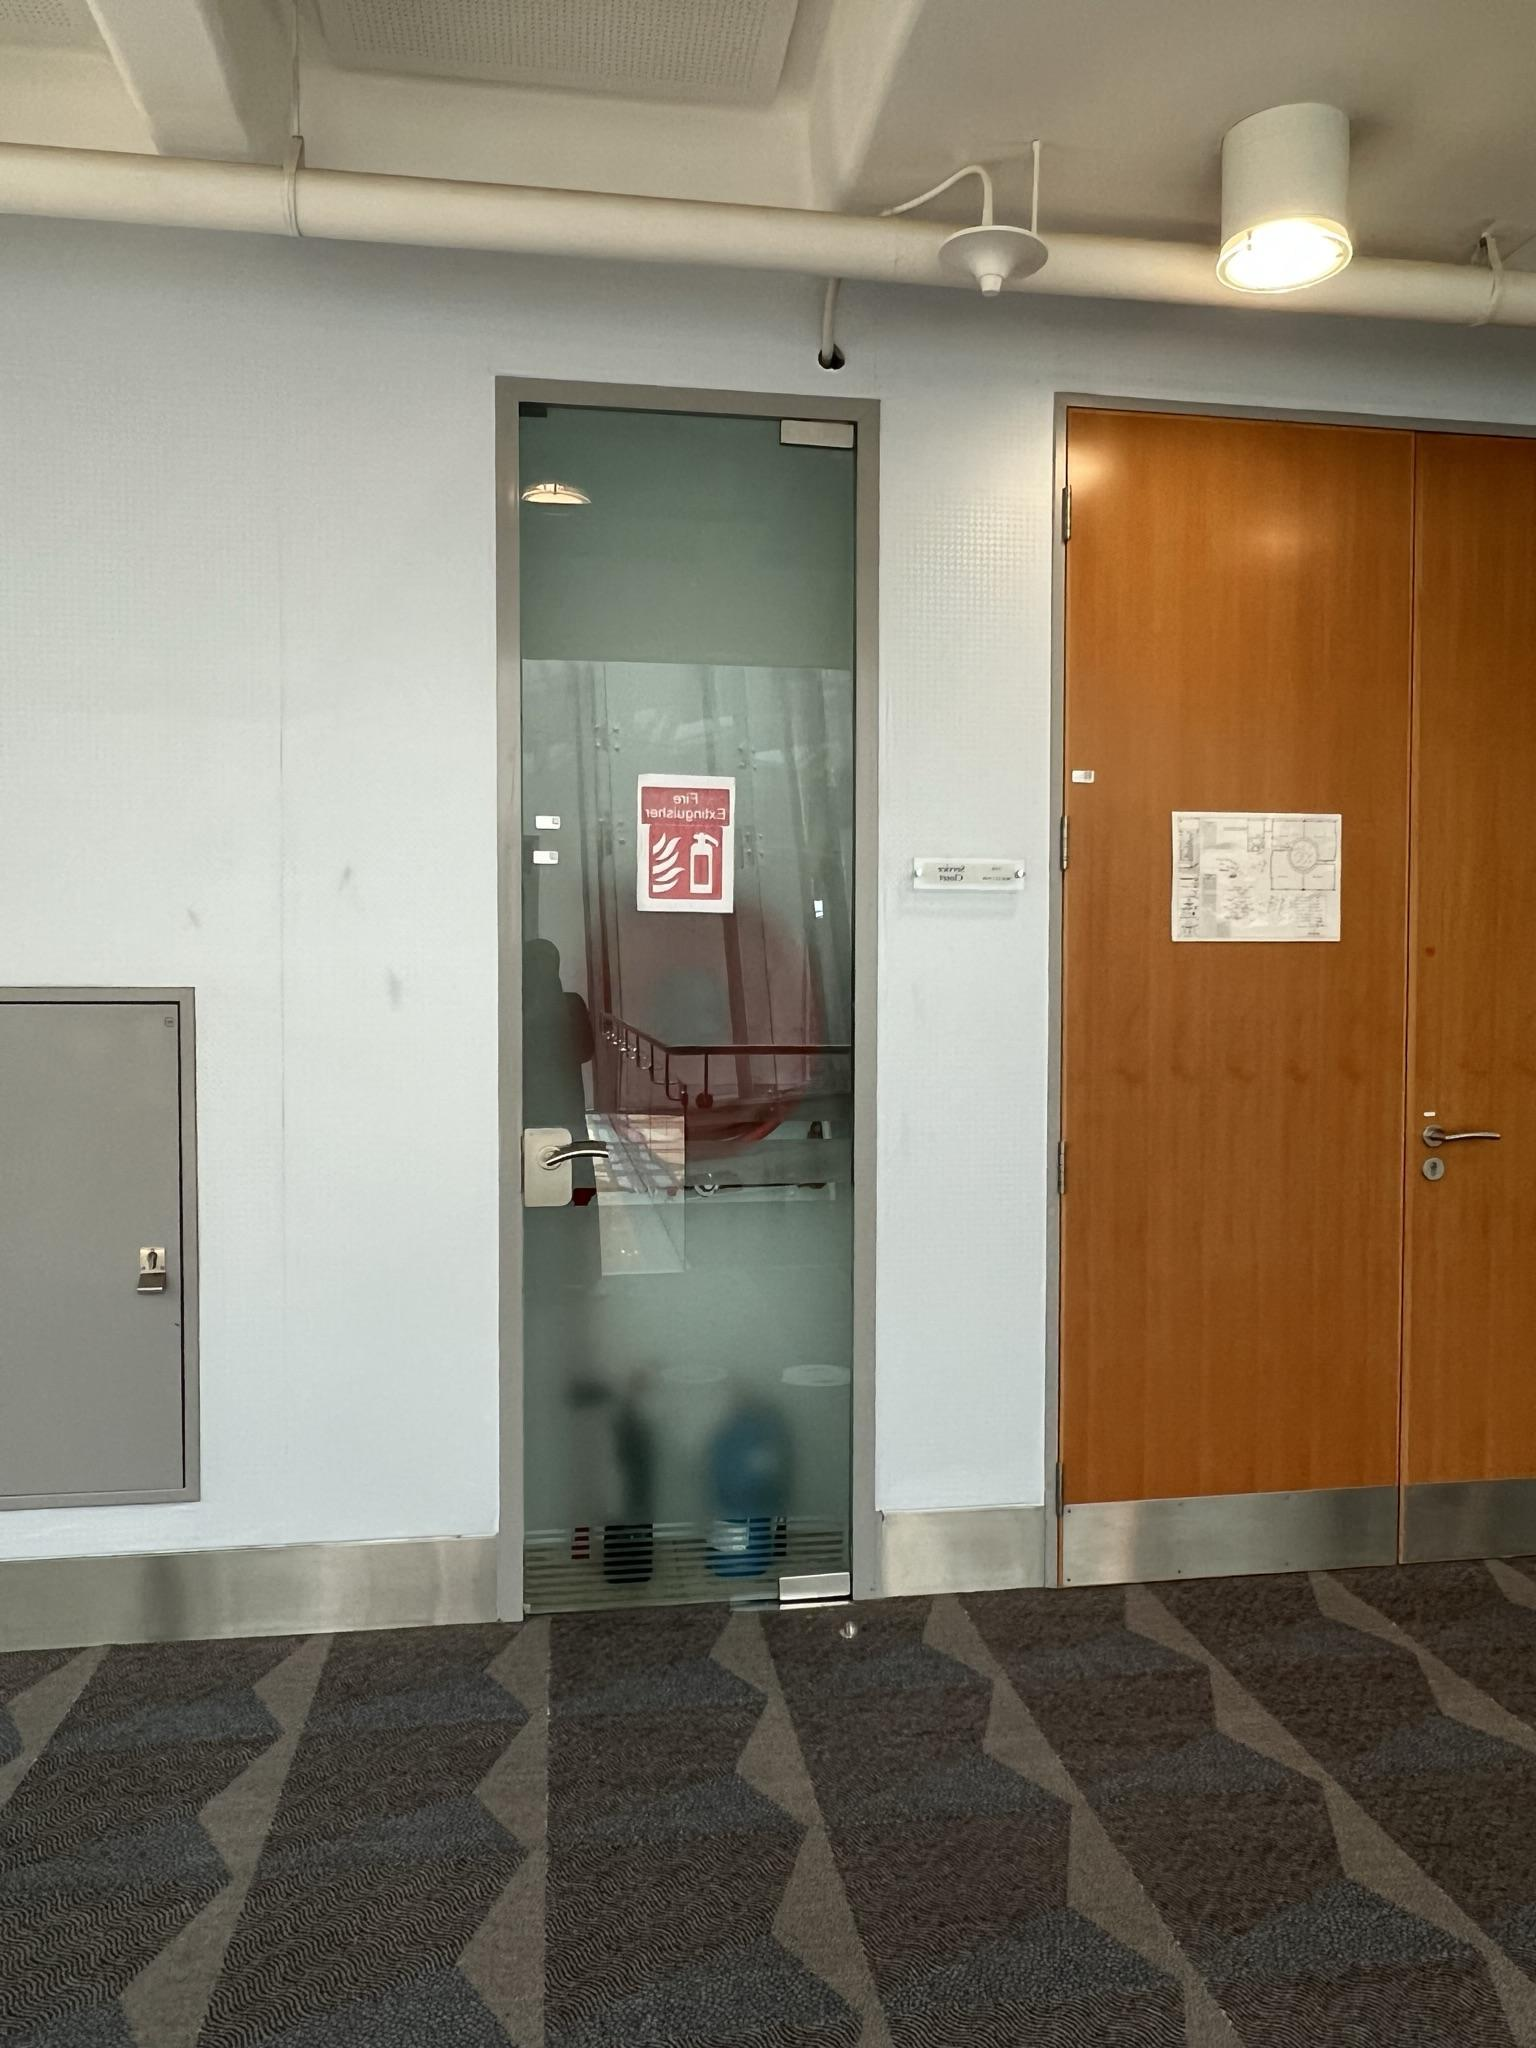door: (1043, 411, 1536, 1570), (499, 396, 874, 1598)
handle: (511, 1116, 614, 1218), (1411, 1106, 1514, 1190)
